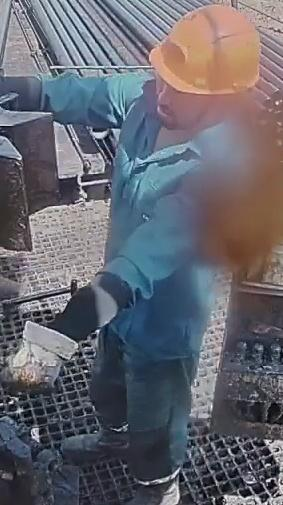gloves: (0, 316, 80, 401)
helmet: (148, 3, 261, 95)
vest: (105, 66, 254, 369)
